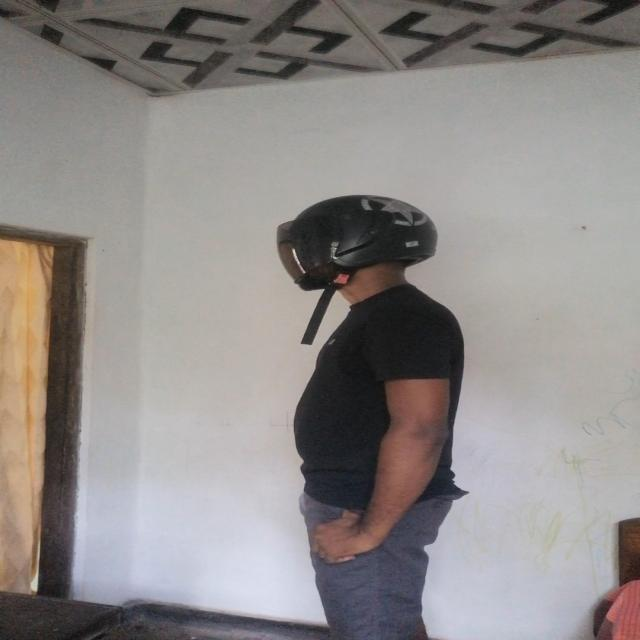Helmet_Wearer: (253, 190, 444, 302)
Person: (249, 188, 481, 639)
